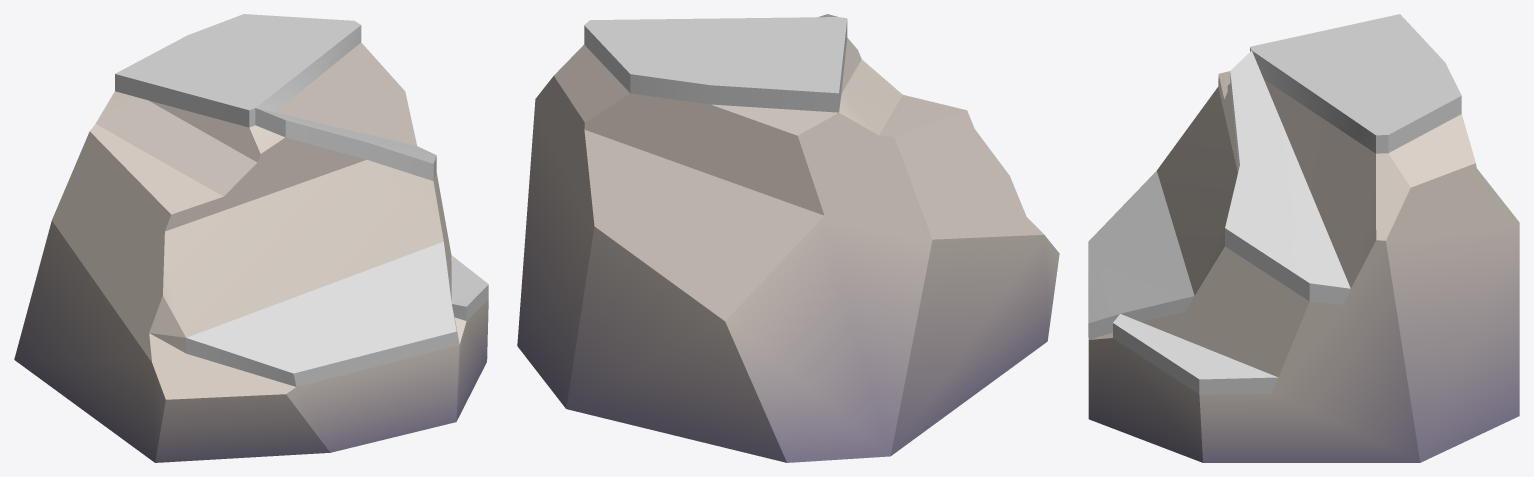
The model's file is rock2.fbx.
3 views of the same model, side by side, from view 1: azimuth 30°, elevation 25°; view 2: azimuth 150°, elevation 25°; view 3: azimuth 270°, elevation 25° (orthographic). The views are drawn at different scales.
Parts seen in each view (by area): view 1: Rock2; view 2: Rock2; view 3: Rock2.
Boxes of the visible parts, bbox=[...] form: Rock2: bbox=[14, 14, 488, 462]; Rock2: bbox=[517, 14, 1059, 462]; Rock2: bbox=[1088, 14, 1519, 462].
Bounding box in the file's own units: 300 × 234 × 300.
